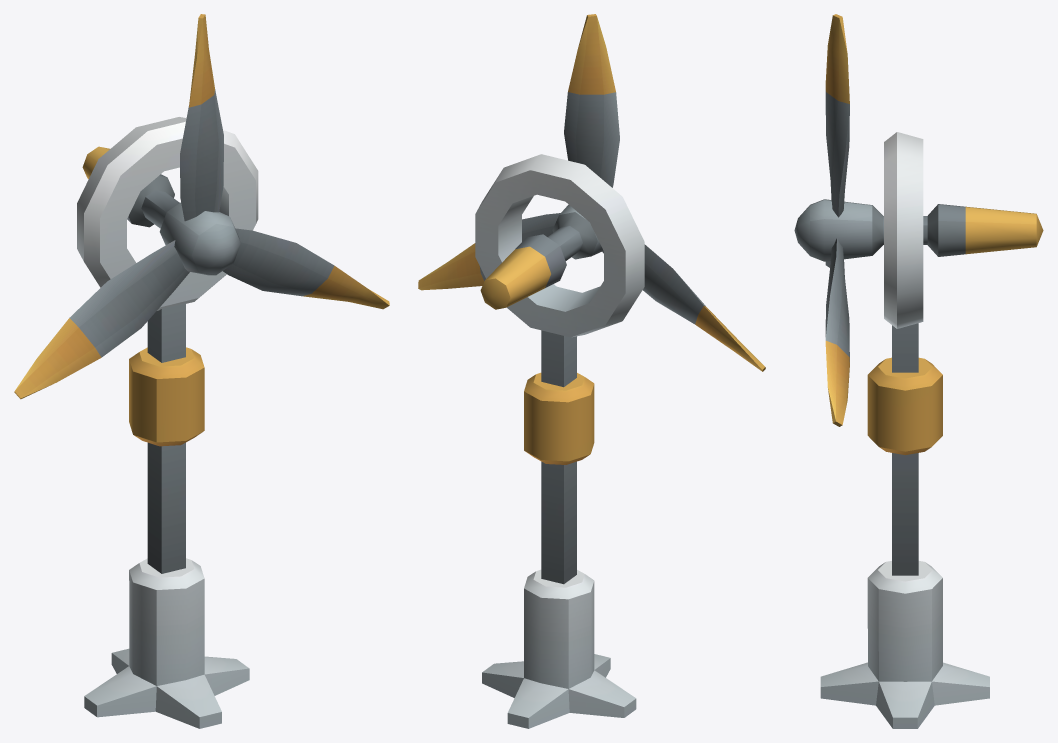
The model's file is windturbine_tall.gltf.
The picture shows the model from 3 angles, left to right: view 1: azimuth 30°, elevation 25°; view 2: azimuth 150°, elevation 25°; view 3: azimuth 270°, elevation 25°; orthographic projection. The views are drawn at different scales.
Visible parts, largest first — view 1: windturbine_tall_fan, windturbine_tall; view 2: windturbine_tall_fan, windturbine_tall; view 3: windturbine_tall, windturbine_tall_fan.
Part boxes in pixels (left/top/right/bottom): windturbine_tall_fan: left=14, top=14, right=389, bottom=399; windturbine_tall: left=84, top=303, right=249, bottom=728; windturbine_tall_fan: left=418, top=14, right=765, bottom=371; windturbine_tall: left=482, top=330, right=636, bottom=728; windturbine_tall: left=820, top=323, right=989, bottom=728; windturbine_tall_fan: left=794, top=14, right=1043, bottom=426.
Size of the model in its own units: 1.67 by 3 by 0.9998.
Materials: 1 (1 with a texture image).
